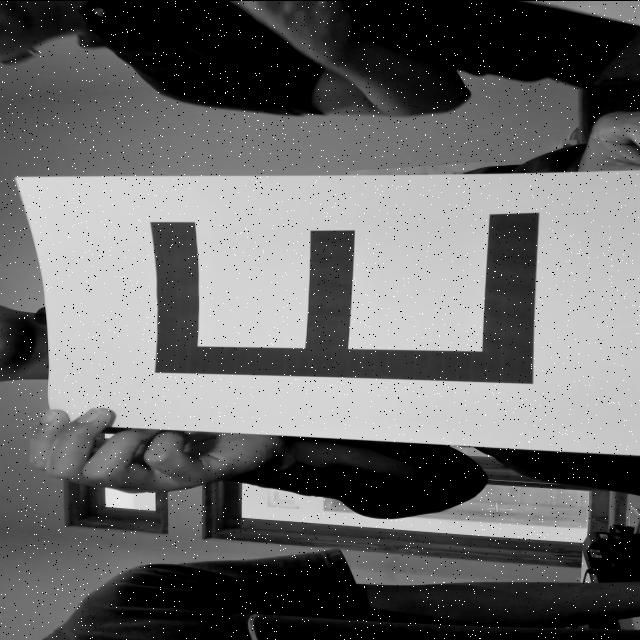e: (134, 187, 578, 394)
